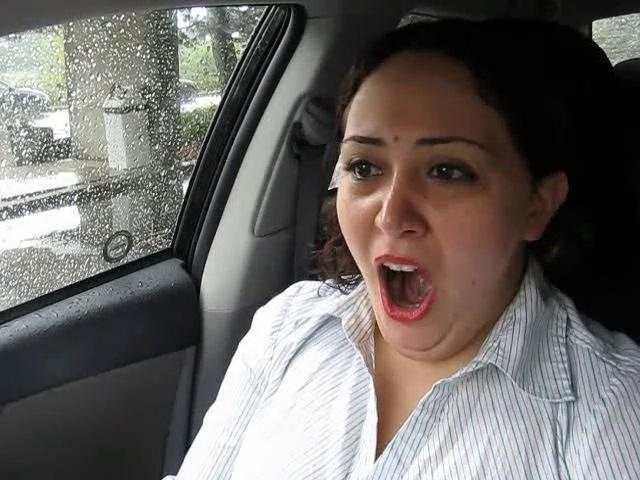open_eyeL: (334, 148, 398, 195)
open_eyeR: (409, 148, 497, 199)
yawn: (353, 252, 456, 331)
